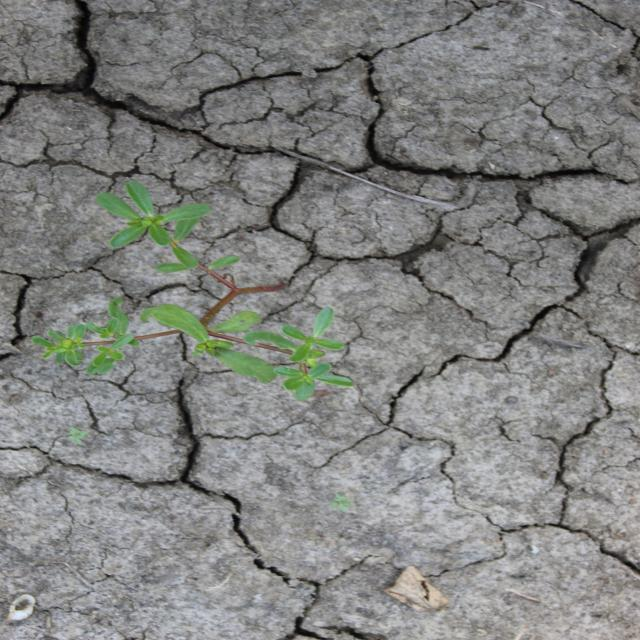Purslane: (30, 180, 358, 404)
